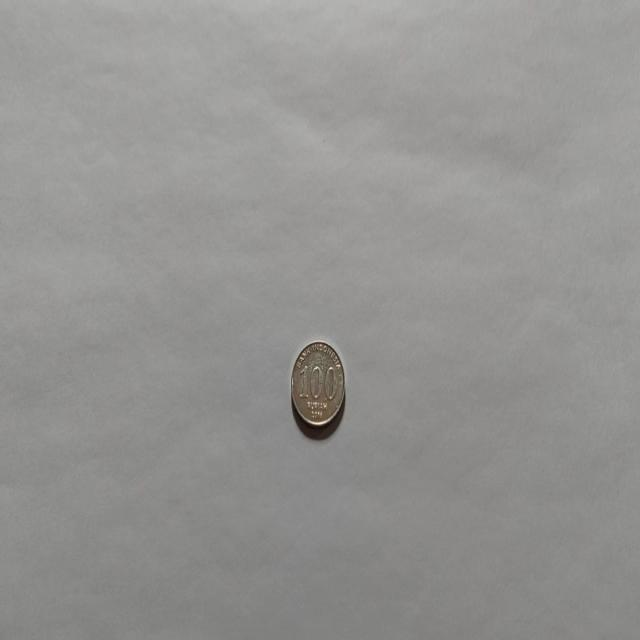seratus rupiah: (290, 338, 346, 431)
